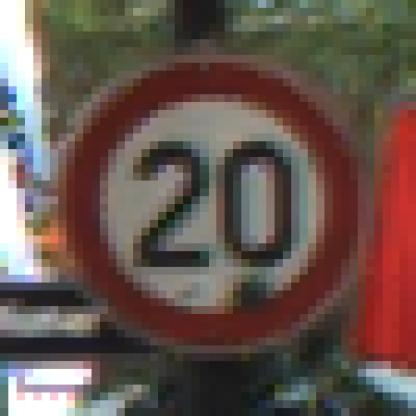Speed Limit 20: (72, 66, 354, 340)
